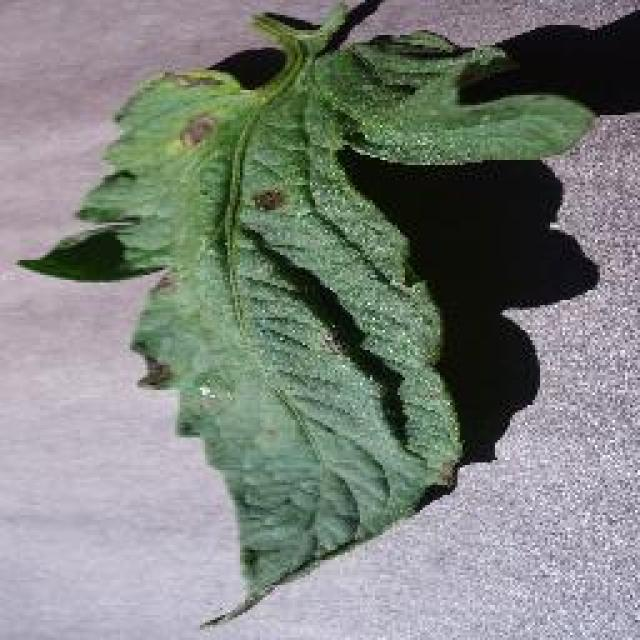Tomato___Early_blight: (13, 0, 603, 632)
